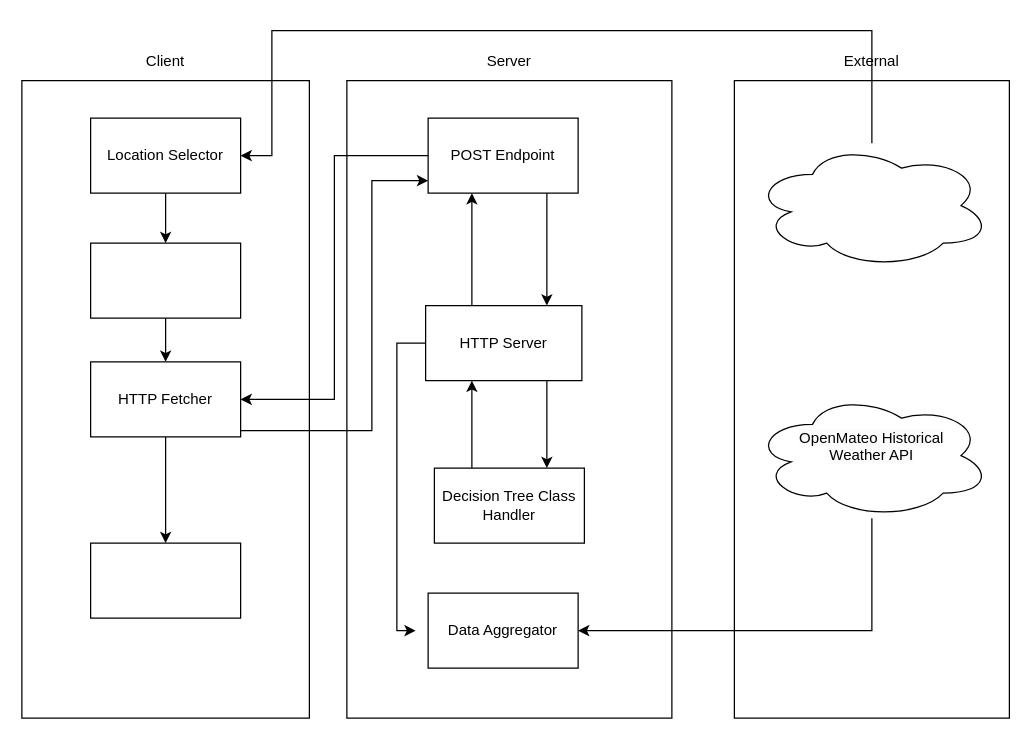
This 1031x740 diagram has some shape labels left out. Each missing label, with the box of its shape:
Crop Calendar: (89, 542, 241, 618)
Crop Selector: (89, 242, 241, 318)
Google Maps API: (752, 142, 991, 268)
